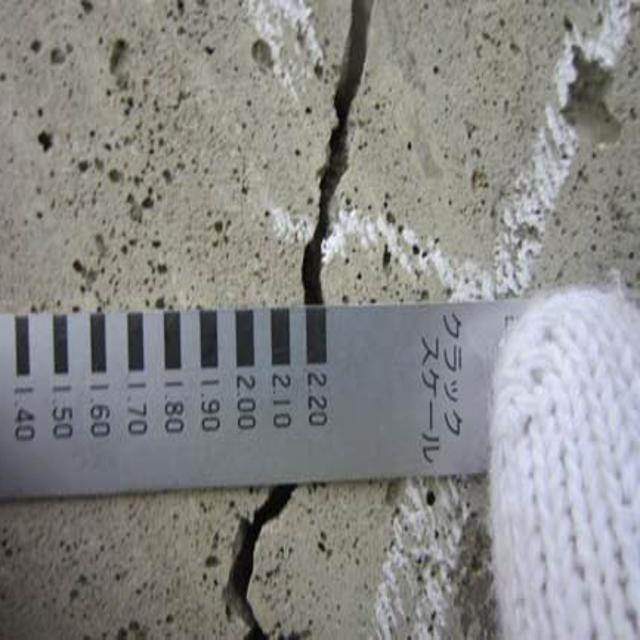crack: (271, 0, 385, 304), (210, 493, 317, 640)
